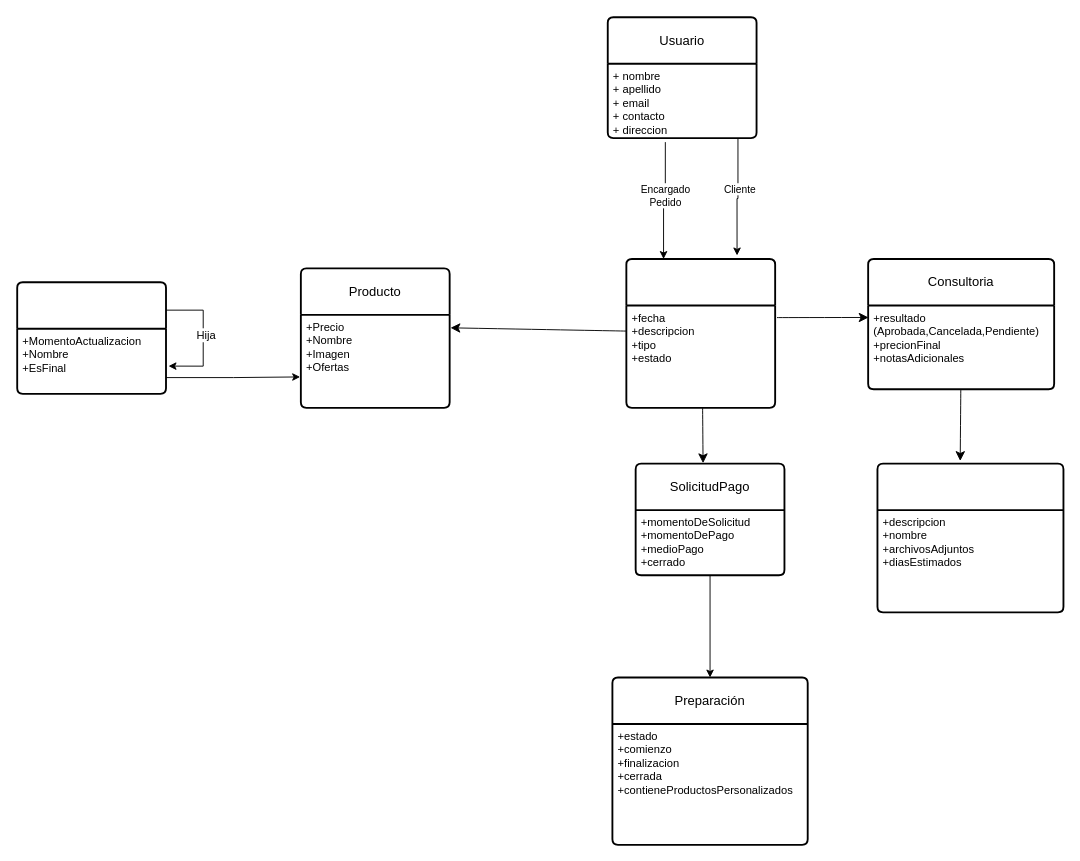
This 1080x861 diagram has some shape labels left out. Here are the shapes that lost their labels. From the top down, the box of each, then its label:
(16, 281, 166, 394): Categoria
(625, 258, 776, 408): Pedido
(876, 462, 1064, 613): ProductoPersonalizado
